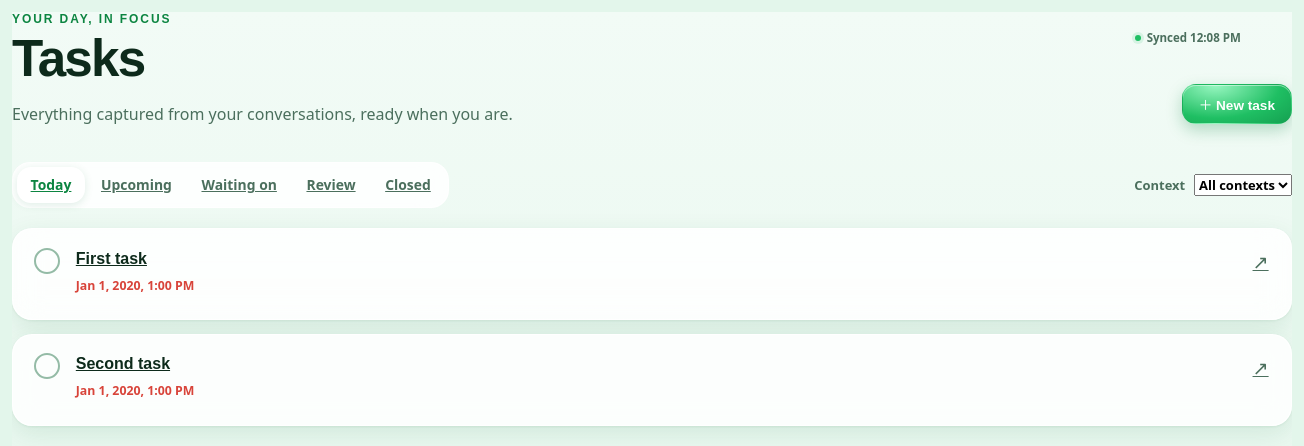
Workspace interactions › keeps unrelated task actions usable, rolls back a failure, and preserves a success when refresh fails
The width and height of the screenshot is (1304, 446).
Click the button named "Complete First task": (47, 261) [34,248,60,274]
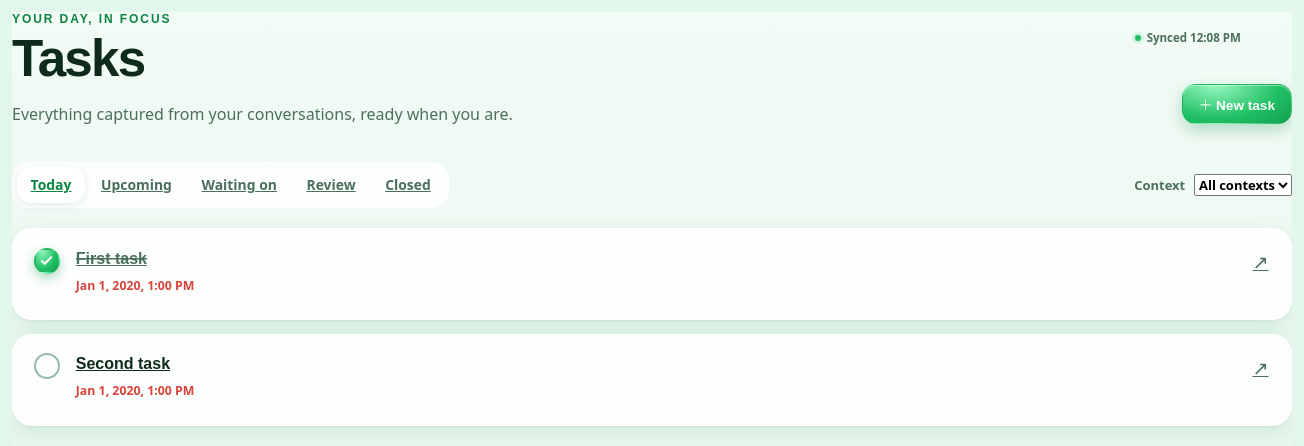
Now the button named "Complete First task" is disabled, box [34,248,60,274]
Click the button named "Complete Second task": (47, 366) [34,353,60,379]
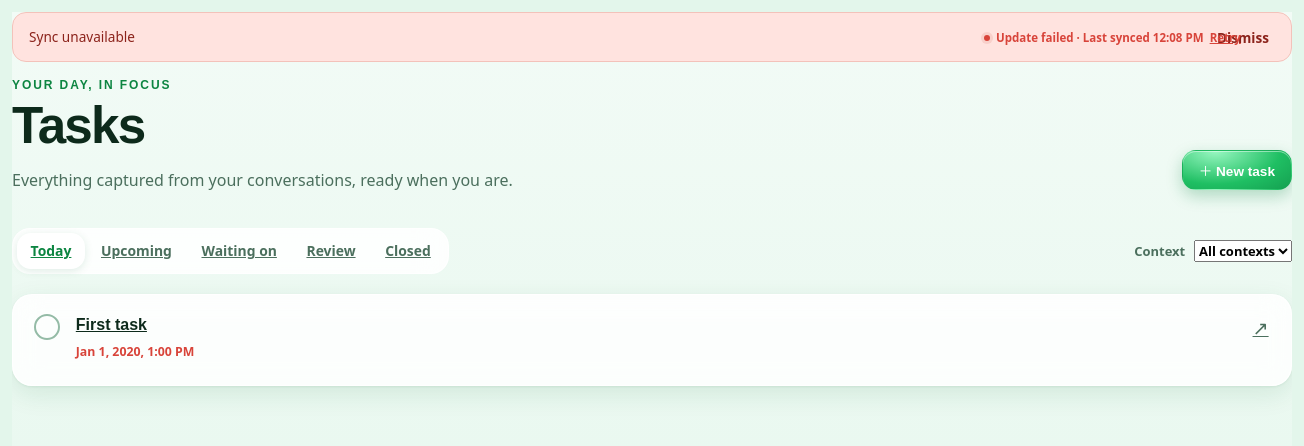
Now the button named "Complete First task" is enabled, box [34,314,60,340]
Now the text "Update failed" is shown, box [996,30,1204,45]
Now the text "Sync unavailable" is shown, box [29,27,135,48]
